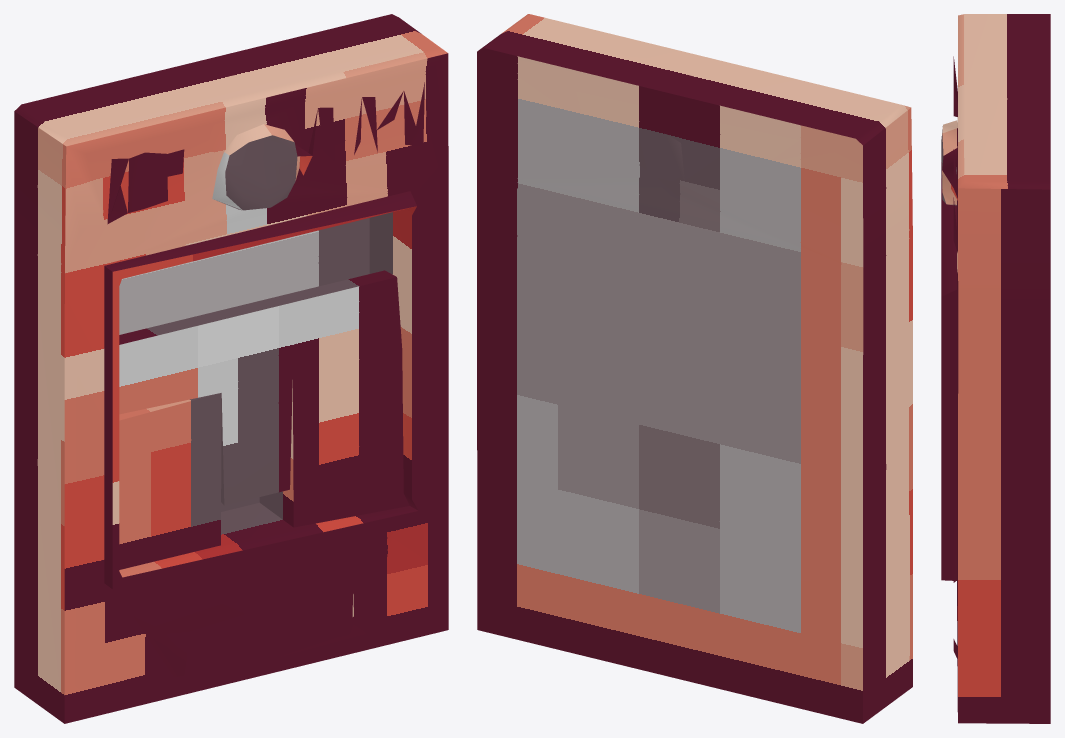
The model's file is fire_alarm.glb.
3 renders of one model, left to right at view 1: azimuth 30°, elevation 25°; view 2: azimuth 150°, elevation 25°; view 3: azimuth 270°, elevation 25°, orthographic. The views are drawn at different scales.
Visible parts, largest first — view 1: mesh; view 2: mesh; view 3: mesh.
Part boxes in pixels (x1,y1,x2,y2): mesh: (14,14,448,723); mesh: (477,14,912,723); mesh: (941,14,1050,723).
Size of the model in its own units: 0.0994 by 0.1436 by 0.0264.
Materials: 1 (1 with a texture image).
